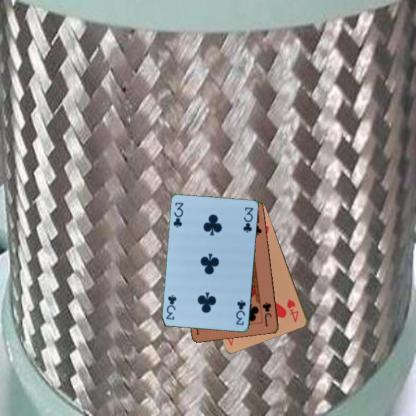3c: (233, 298, 248, 326), (171, 200, 185, 229)
4h: (284, 296, 300, 324)
Jc: (260, 300, 273, 327)
